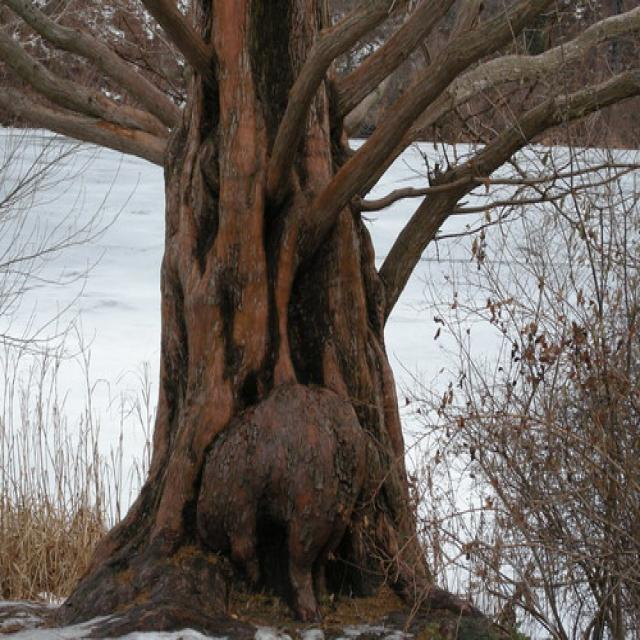boar: (164, 360, 397, 640)
